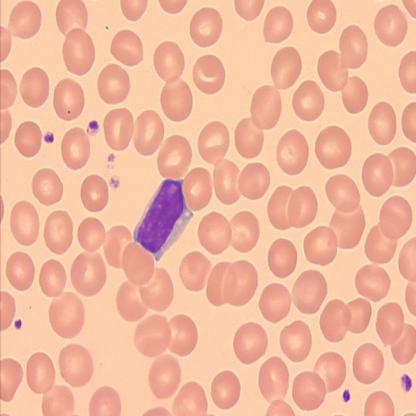Atypical lymphocyte: (131, 176, 195, 264)
